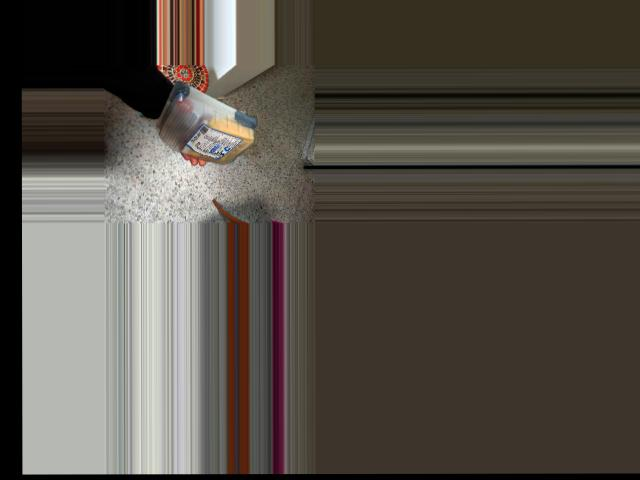cheese: (140, 82, 261, 166)
